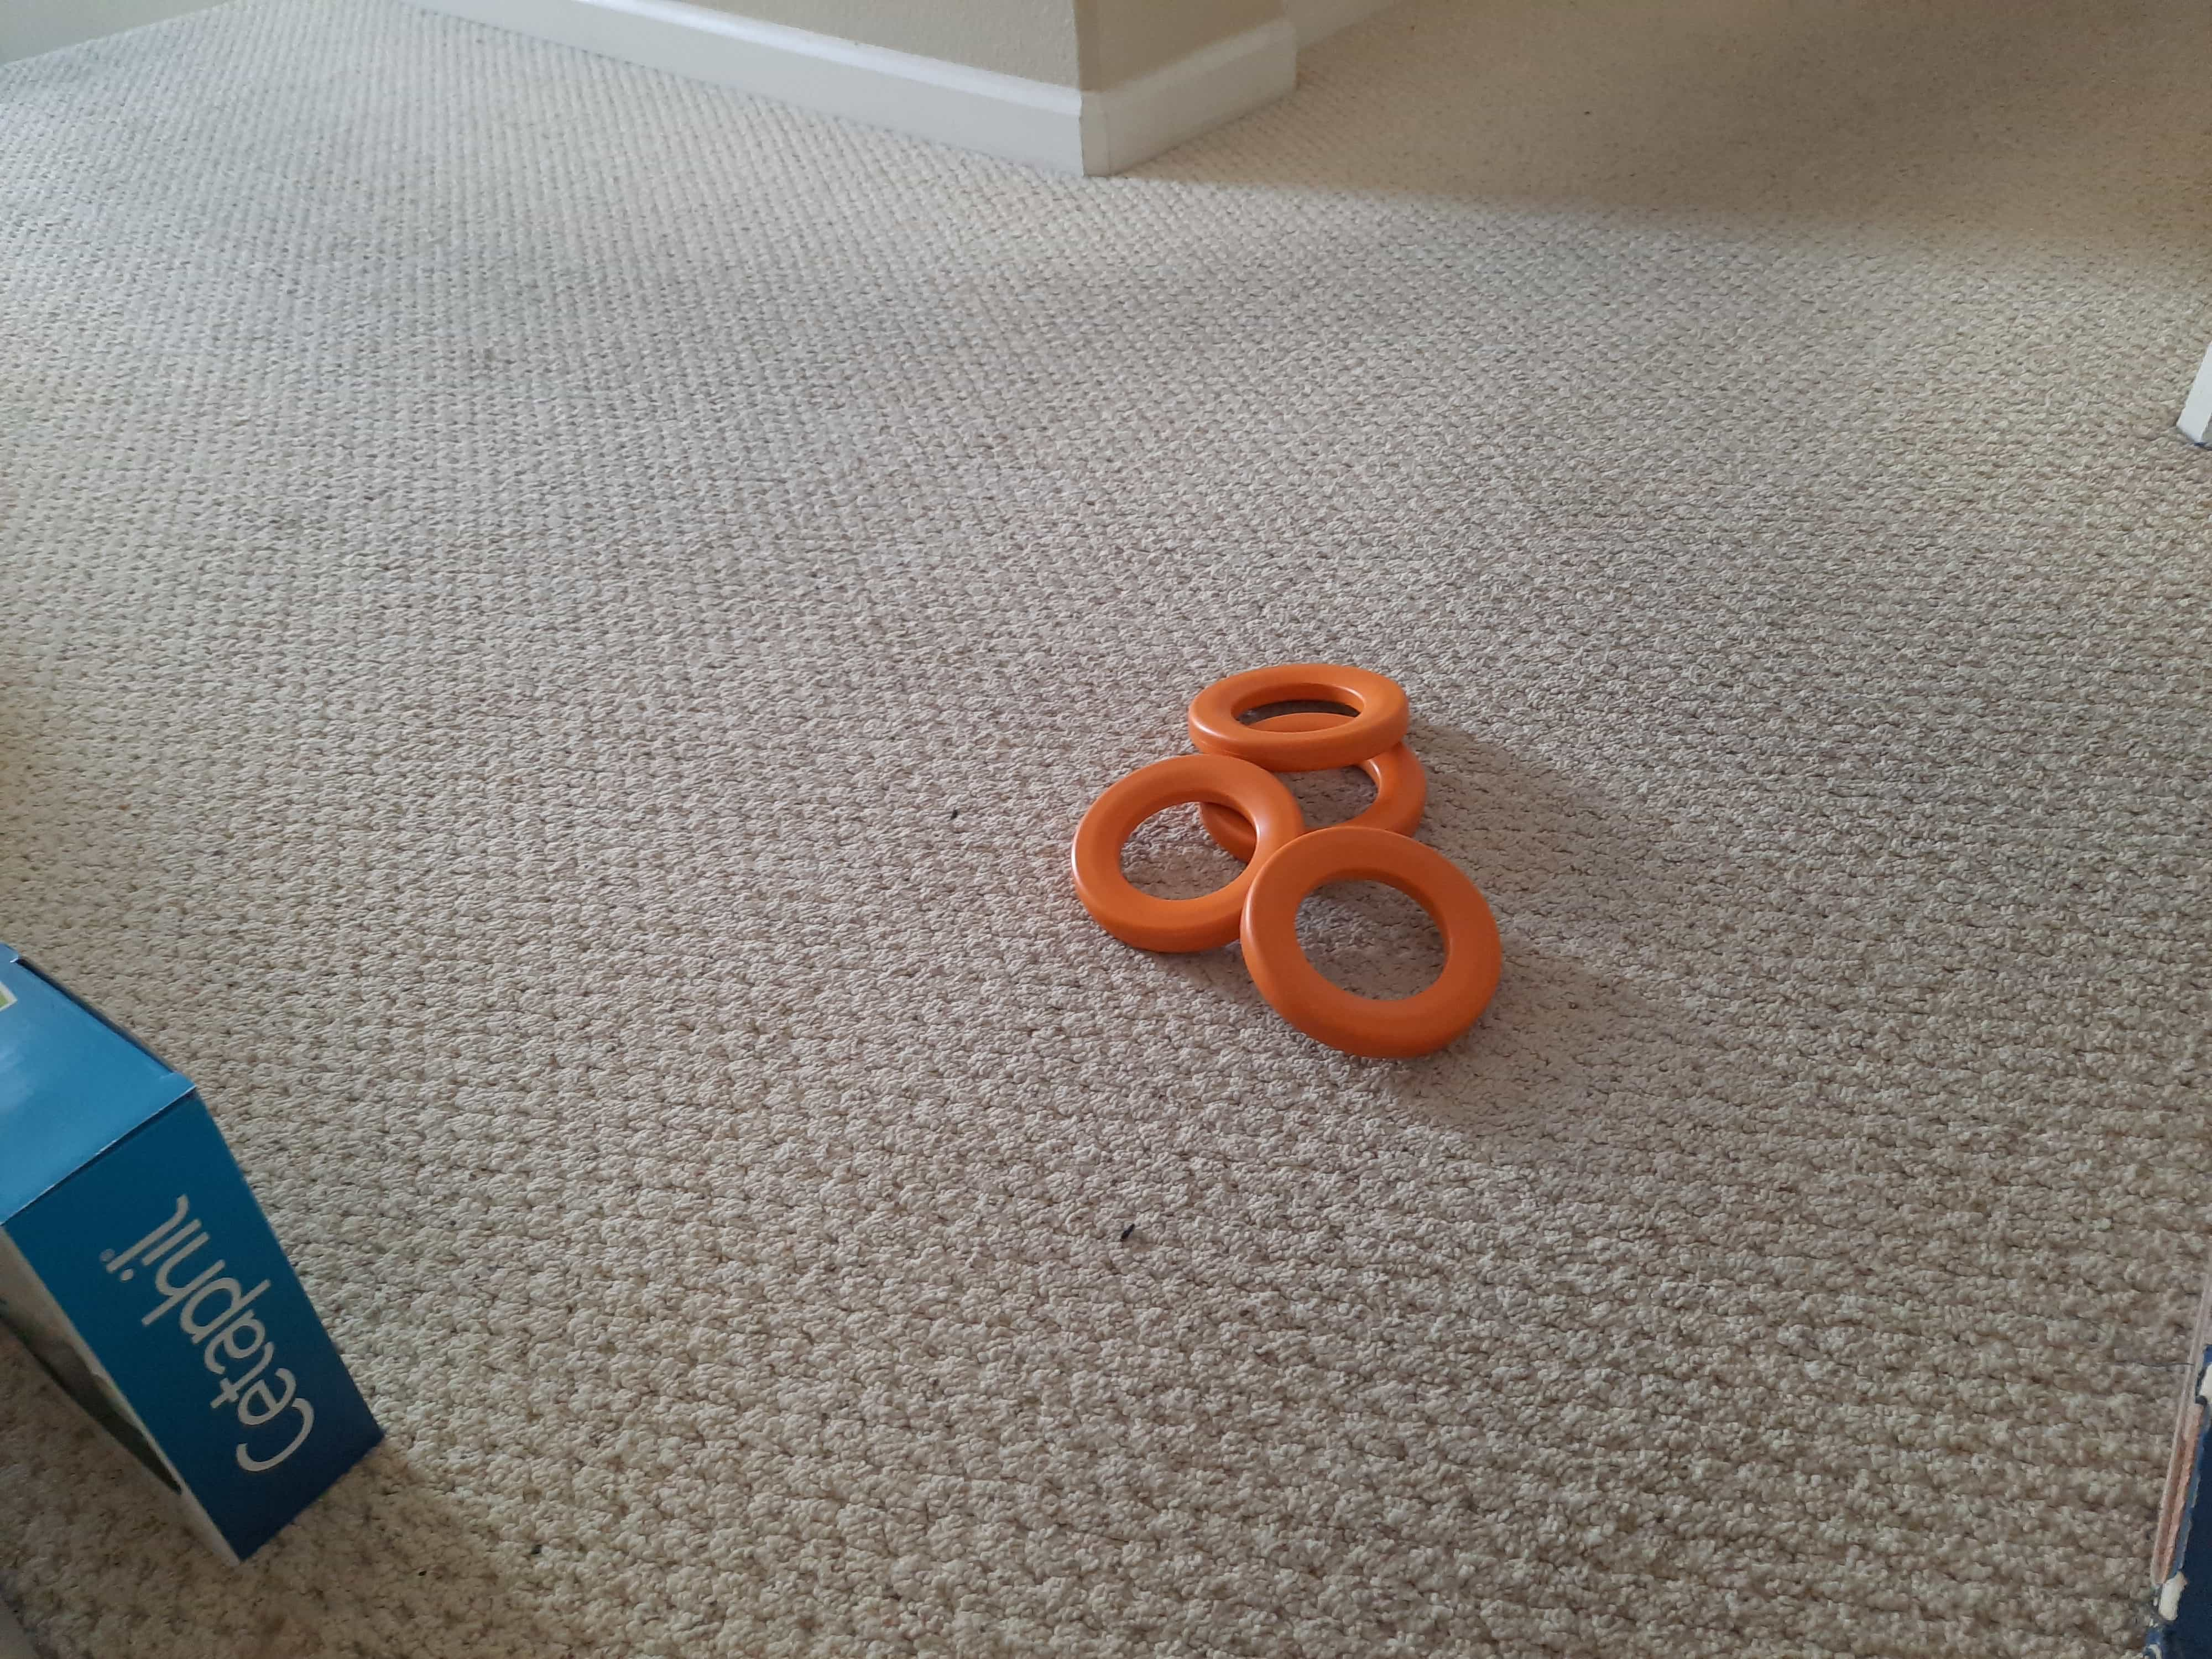OneStack: (1252, 828, 1501, 1054), (1069, 756, 1296, 938), (1216, 725, 1430, 854), (1193, 660, 1421, 742)
